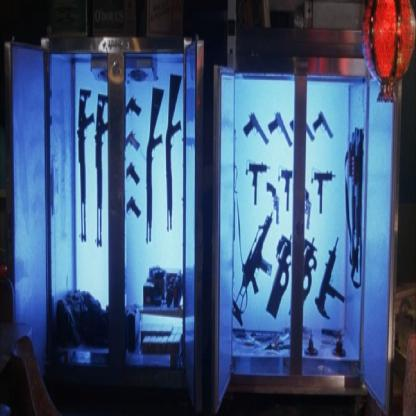Guns: (232, 104, 364, 354), (76, 68, 182, 258)
